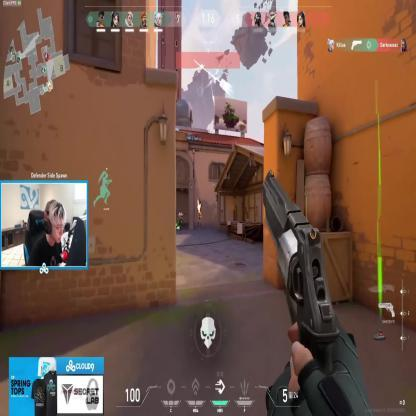enemy: (178, 210, 182, 230)
enemy_head: (180, 210, 182, 213)
